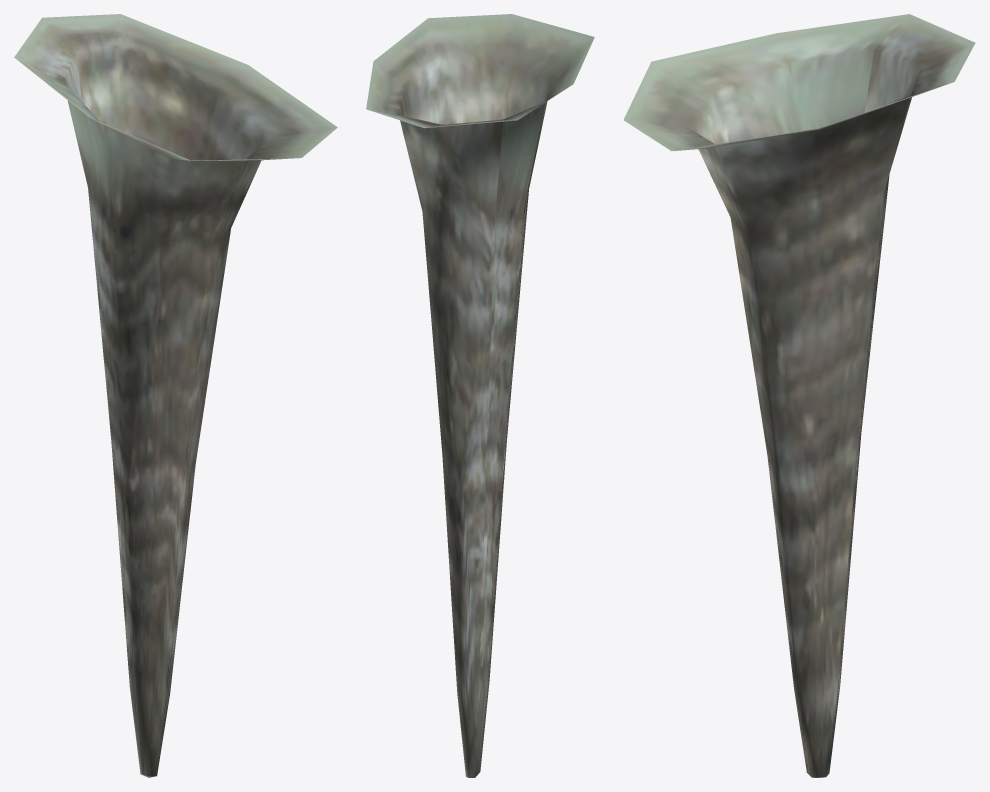
Rendered from TROLLHOLE02_PS-MAINSTALAG22.fbx.
3 views of the same model, side by side, from view 1: azimuth 30°, elevation 25°; view 2: azimuth 150°, elevation 25°; view 3: azimuth 270°, elevation 25° (orthographic).
Visible parts, largest first — view 1: TROLLHOLE02_PS-MAINSTALAG22; view 2: TROLLHOLE02_PS-MAINSTALAG22; view 3: TROLLHOLE02_PS-MAINSTALAG22.
Part boxes in pixels (x1=…): TROLLHOLE02_PS-MAINSTALAG22: x1=14, y1=14, x2=337, y2=777; TROLLHOLE02_PS-MAINSTALAG22: x1=366, y1=14, x2=594, y2=777; TROLLHOLE02_PS-MAINSTALAG22: x1=623, y1=14, x2=975, y2=777.
Bounding box in the file's own units: 16371 × 53816 × 23837.
Materials: 1 (1 with a texture image).
